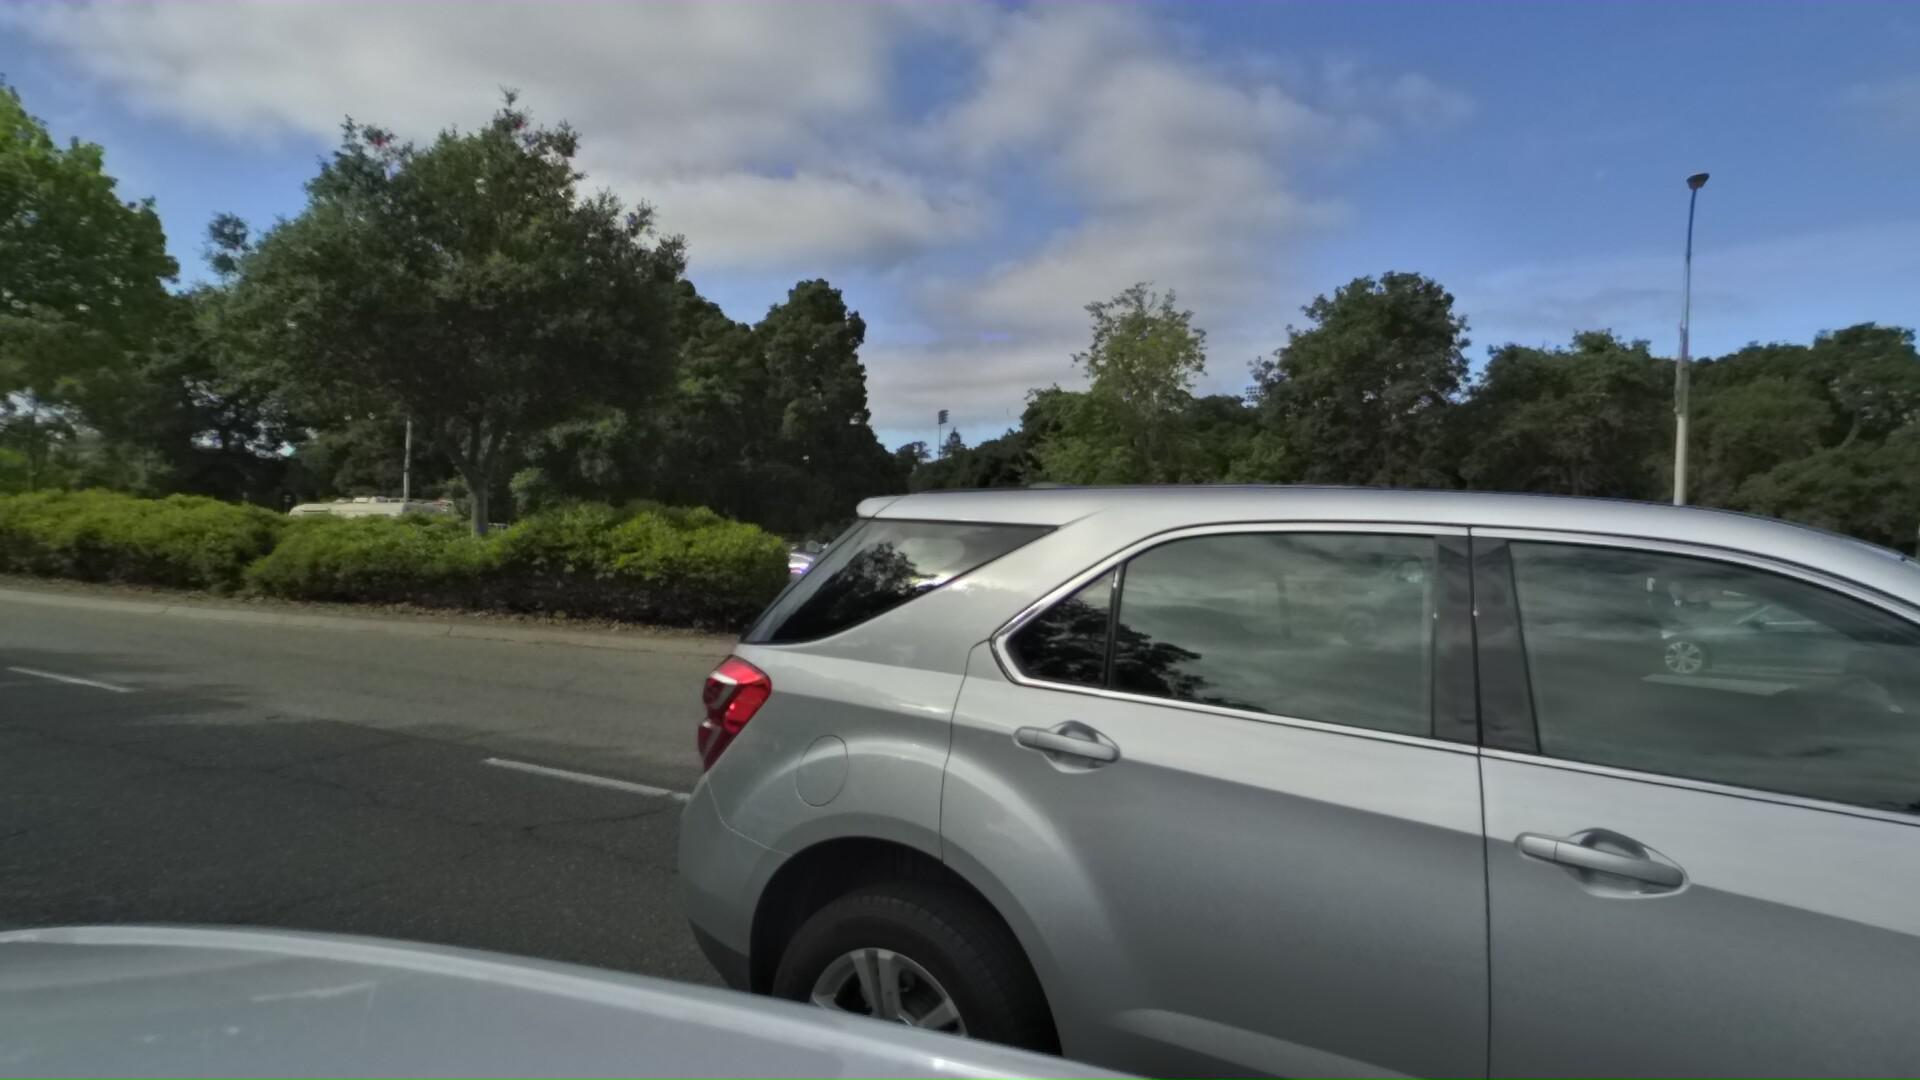car: (542, 255, 1920, 1080), (1534, 566, 1880, 696), (637, 546, 872, 626), (752, 556, 905, 613)
other_vehicle: (1855, 462, 1920, 756), (264, 492, 465, 582)
truck: (1308, 497, 1689, 671), (935, 502, 1250, 636)
